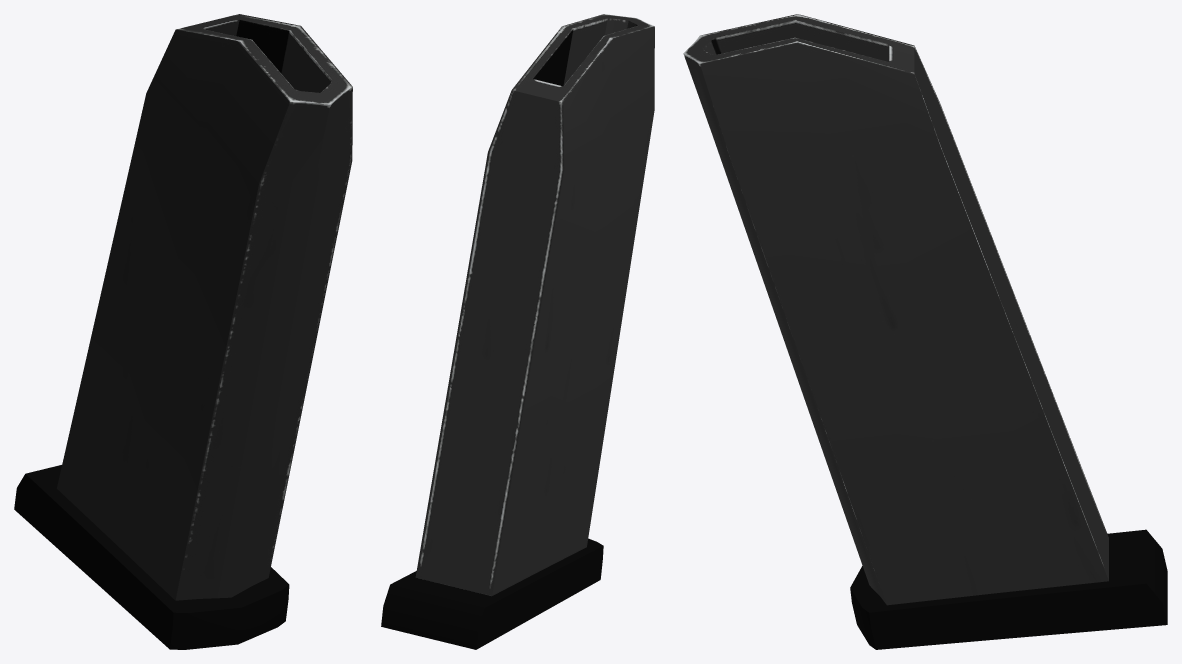
Rendered from variant4.glb.
The picture shows the model from 3 angles, left to right: view 1: azimuth 30°, elevation 25°; view 2: azimuth 150°, elevation 25°; view 3: azimuth 270°, elevation 25°; orthographic projection. The views are drawn at different scales.
Parts seen in each view (by area): view 1: Magazine_Low; view 2: Magazine_Low; view 3: Magazine_Low.
Part boxes in pixels (x1,y1,x2,y2): Magazine_Low: [14, 14, 352, 649]; Magazine_Low: [381, 14, 654, 649]; Magazine_Low: [683, 14, 1167, 649].
Bounding box in the file's own units: 1.77 × 9.13 × 6.72.
1 material, 1 textured.
